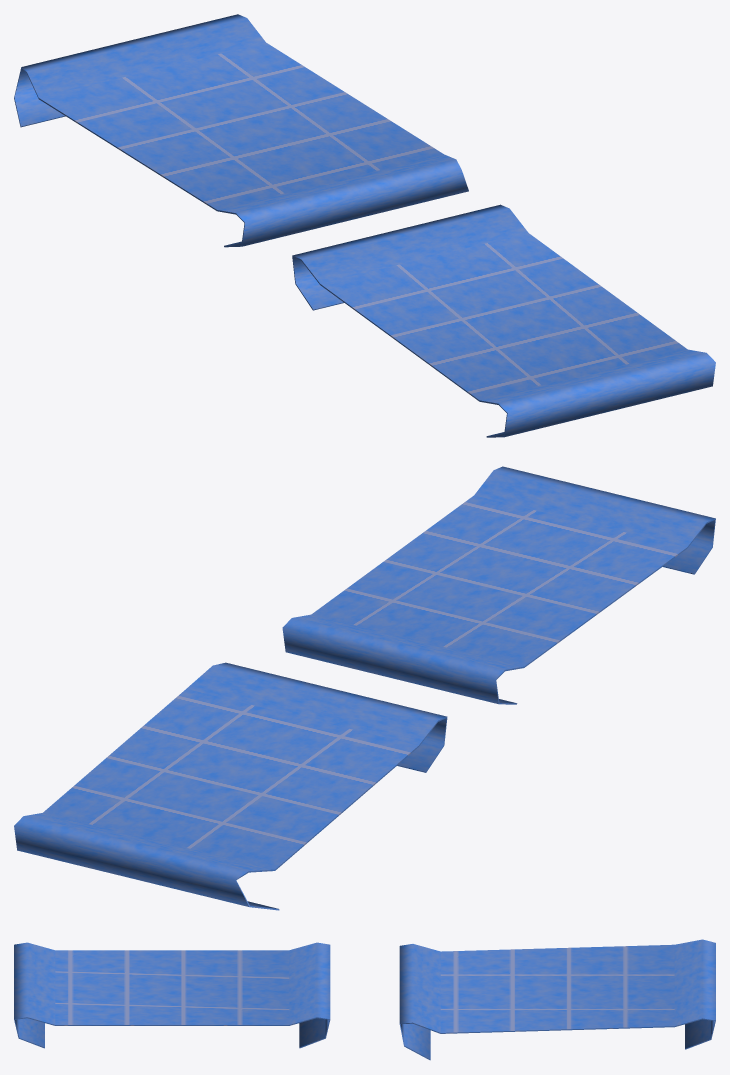
Rendered from Blueprint.fbx.
3 views of the same model, one above another, from view 1: azimuth 30°, elevation 25°; view 2: azimuth 150°, elevation 25°; view 3: azimuth 270°, elevation 25° (orthographic). The views are drawn at different scales.
Visible parts, largest first — view 1: Blueprint_2, Blueprint_1; view 2: Blueprint_2, Blueprint_1; view 3: Blueprint_2, Blueprint_1.
Boxes of the visible parts, x1,y1,x2,y2 form: Blueprint_2: [14, 14, 468, 247]; Blueprint_1: [292, 204, 715, 437]; Blueprint_2: [14, 662, 447, 910]; Blueprint_1: [282, 466, 715, 704]; Blueprint_2: [399, 939, 715, 1060]; Blueprint_1: [14, 942, 330, 1048].
Bounding box in the file's own units: 0.4847 × 0.0765 × 1.5.
